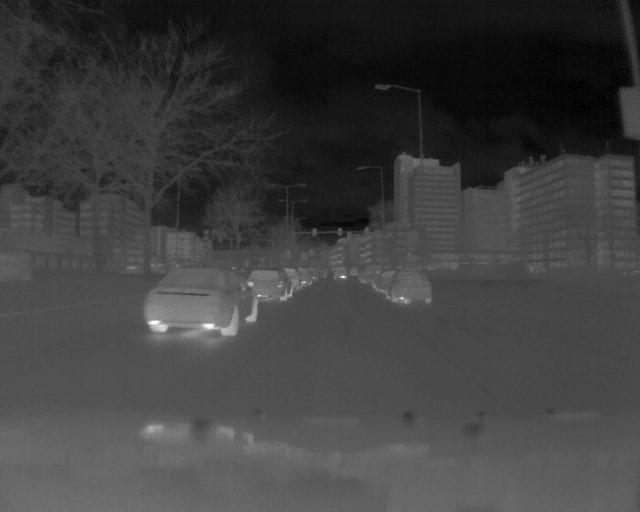car: (140, 264, 256, 338), (385, 269, 434, 305), (245, 268, 294, 303), (331, 265, 350, 281)
